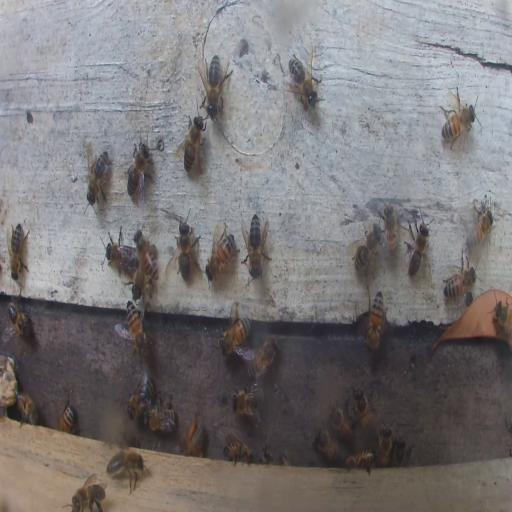bee: (176, 108, 208, 175), (286, 52, 321, 110), (100, 226, 136, 280), (199, 52, 230, 114), (242, 211, 270, 279), (107, 448, 148, 494), (171, 214, 199, 278), (350, 222, 382, 276), (404, 213, 431, 277), (206, 225, 236, 282), (84, 148, 112, 205), (126, 142, 153, 201), (439, 100, 476, 142), (444, 254, 477, 301), (219, 312, 251, 357), (364, 289, 386, 351), (127, 375, 154, 424), (125, 303, 149, 358), (135, 230, 156, 291), (248, 336, 278, 378), (8, 222, 29, 281), (378, 202, 400, 258), (230, 383, 264, 418), (467, 204, 493, 248), (313, 427, 343, 464), (133, 248, 152, 303), (144, 402, 176, 434), (74, 480, 106, 512), (329, 403, 355, 441), (7, 300, 32, 337), (354, 385, 374, 431), (492, 300, 512, 340), (376, 420, 393, 466), (185, 421, 206, 458), (14, 391, 38, 423), (223, 440, 252, 466), (346, 449, 374, 474), (391, 438, 412, 464), (60, 402, 75, 430)
